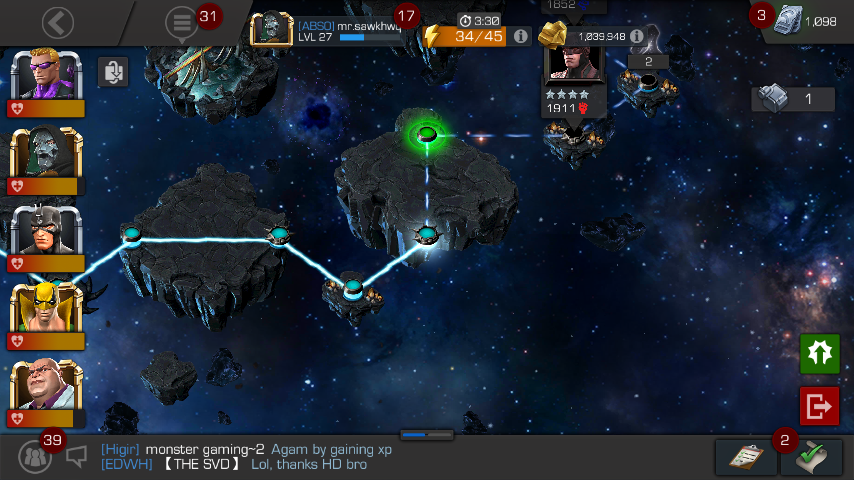green: (417, 126, 437, 142)
